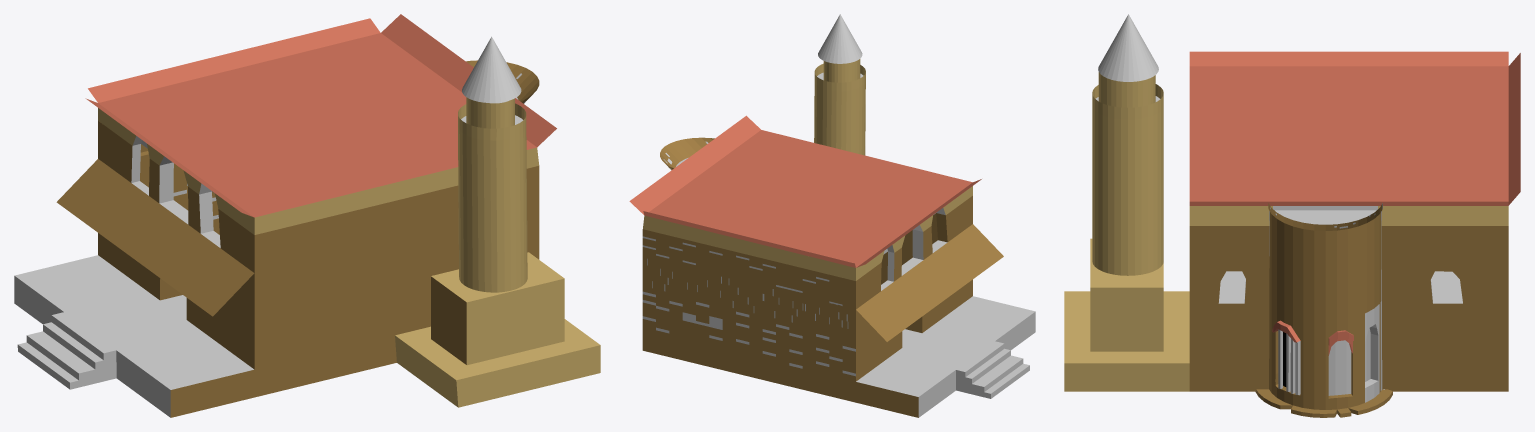
The model's file is fatihcamii.fbx.
The picture shows the model from 3 angles, left to right: view 1: azimuth 30°, elevation 25°; view 2: azimuth 150°, elevation 25°; view 3: azimuth 270°, elevation 25°; orthographic projection. The views are drawn at different scales.
Parts seen in each view (by area): view 1: Cube; view 2: Cube; view 3: Cube.
Boxes of the visible parts, x1=… form: Cube: x1=14, y1=14, x2=600, y2=417; Cube: x1=629, y1=14, x2=1035, y2=417; Cube: x1=1064, y1=14, x2=1520, y2=417.
Size of the model in its own units: 1838 by 1235 by 1499.
